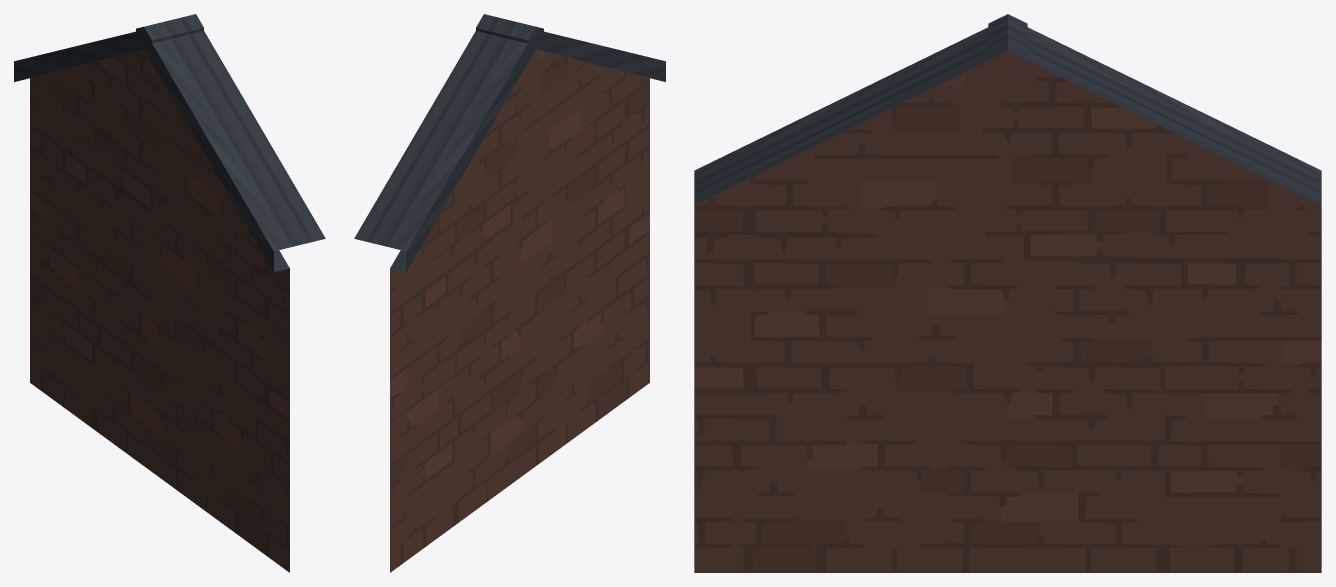
The model's file is Roof_side_type_2.fbx.
3 views of the same model, side by side, from view 1: azimuth 30°, elevation 25°; view 2: azimuth 150°, elevation 25°; view 3: azimuth 270°, elevation 25° (orthographic). The views are drawn at different scales.
Parts seen in each view (by area): view 1: Roof_side_type_2; view 2: Roof_side_type_2; view 3: Roof_side_type_2.
Part boxes in pixels (x1=…): Roof_side_type_2: x1=14, y1=14, x2=325, y2=572; Roof_side_type_2: x1=354, y1=14, x2=665, y2=572; Roof_side_type_2: x1=694, y1=14, x2=1321, y2=572.
Bounding box in the file's own units: 28.91 × 242 × 250.
